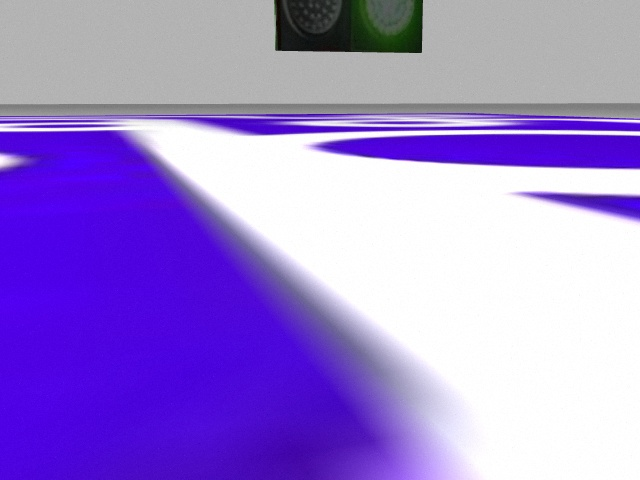green: (351, 1, 423, 50)
